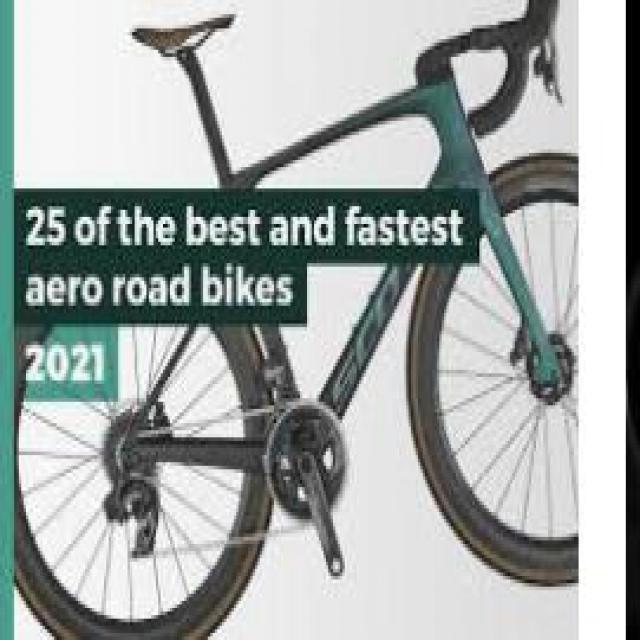bicycle: (25, 5, 578, 627)
